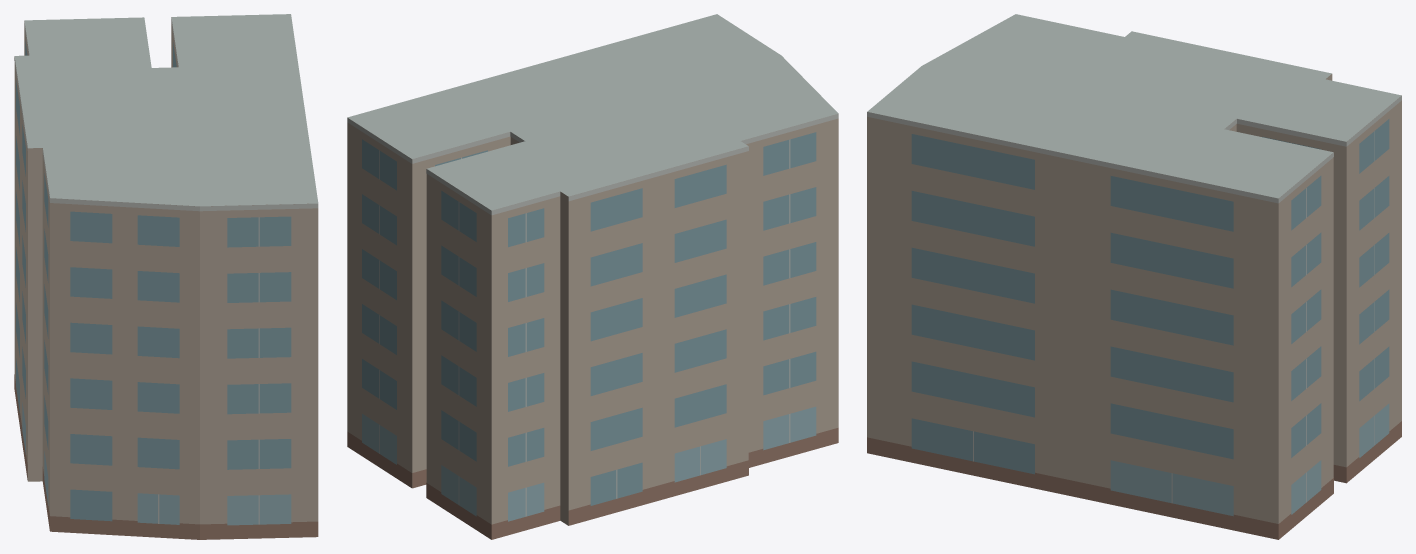
Rendered from survey-upis-33029530.glb.
3 views of the same model, side by side, from view 1: azimuth 30°, elevation 25°; view 2: azimuth 150°, elevation 25°; view 3: azimuth 270°, elevation 25° (orthographic). The views are drawn at different scales.
Parts seen in each view (by area): view 1: survey-upis-33029530.tmp; view 2: survey-upis-33029530.tmp; view 3: survey-upis-33029530.tmp.
Part boxes in pixels (x1=…): survey-upis-33029530.tmp: x1=14, y1=14, x2=318, y2=539; survey-upis-33029530.tmp: x1=347, y1=14, x2=838, y2=539; survey-upis-33029530.tmp: x1=867, y1=14, x2=1401, y2=539.
Size of the model in its own units: 19.54 by 16.85 by 23.93.
